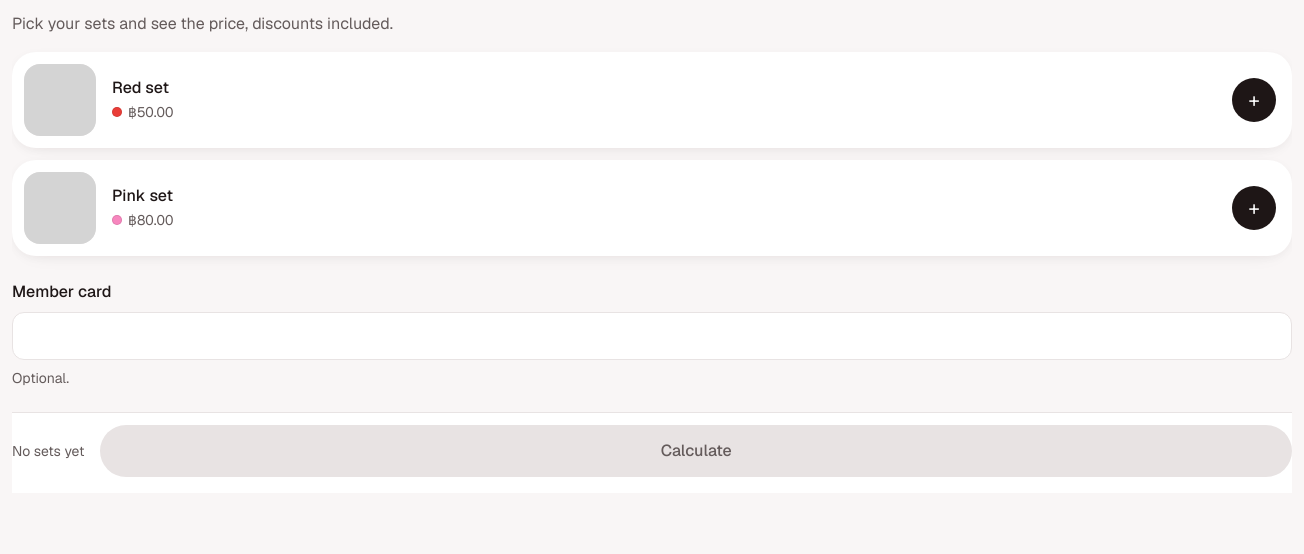
Test case: Calculator › shows the server message and keeps the cart when the Red set is held
Step 1. Click the button named "Increase Red set" → (1254, 100), box [1232,78,1276,122]
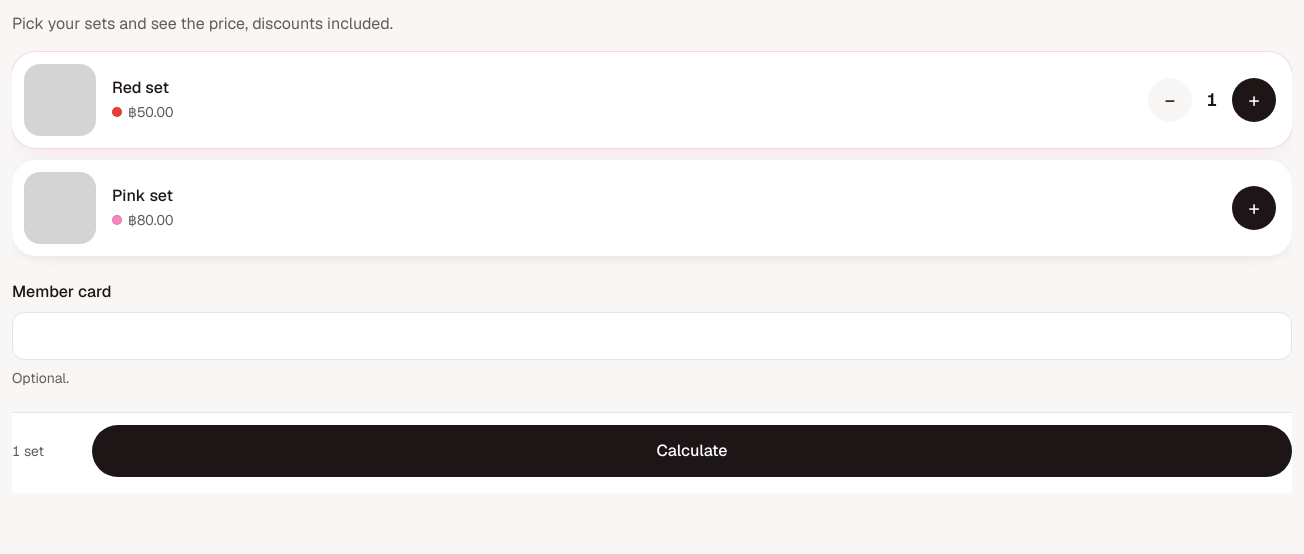
Step 2. Click the button "Calculate" → (692, 451), box [92,425,1292,477]
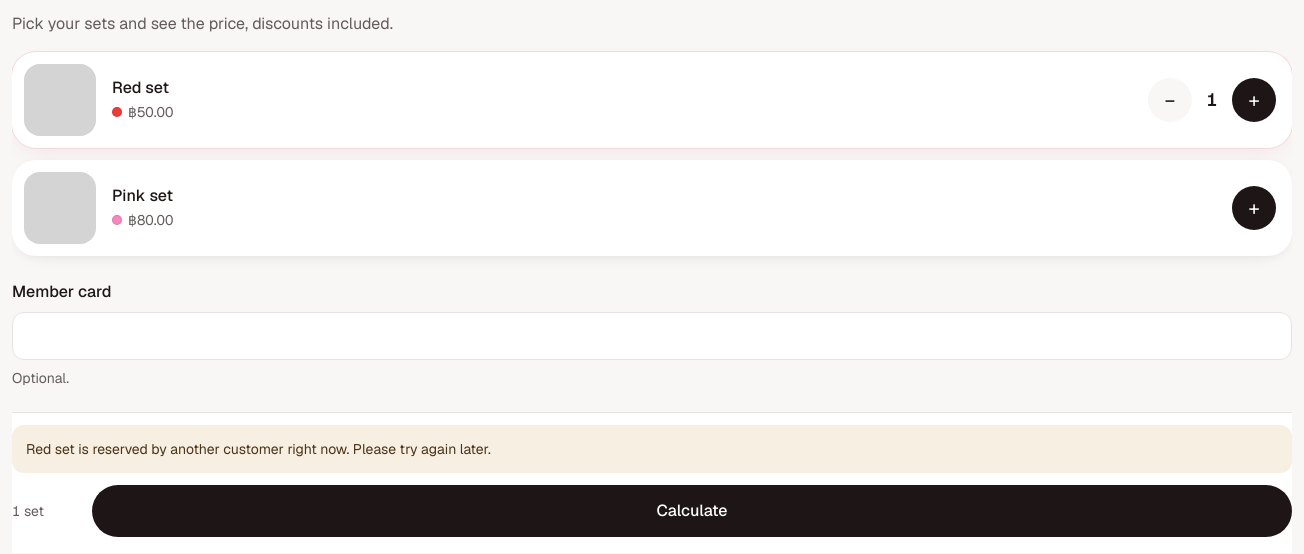
Check: the text named "Red set quantity" reads "1", box [1206,88,1218,111]
Check: the message shows "Red set is reserved by another customer", box [26,440,491,458]
